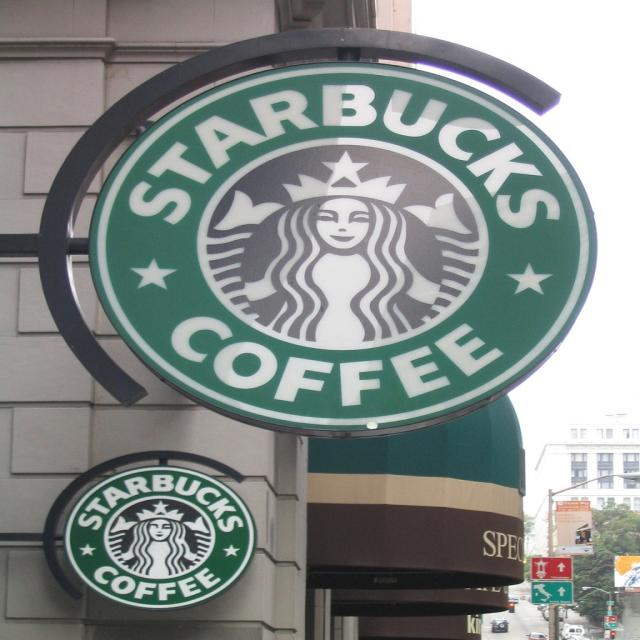starbucks: (89, 63, 598, 436), (66, 467, 256, 609)
